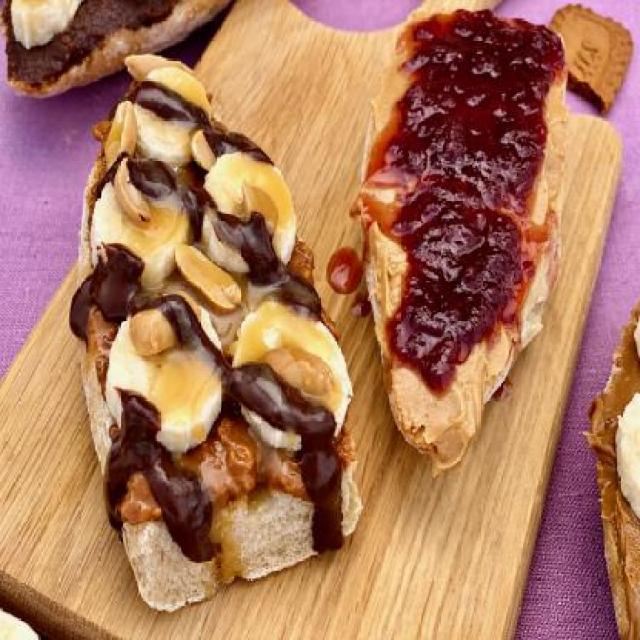Spread: (400, 47, 514, 336)
